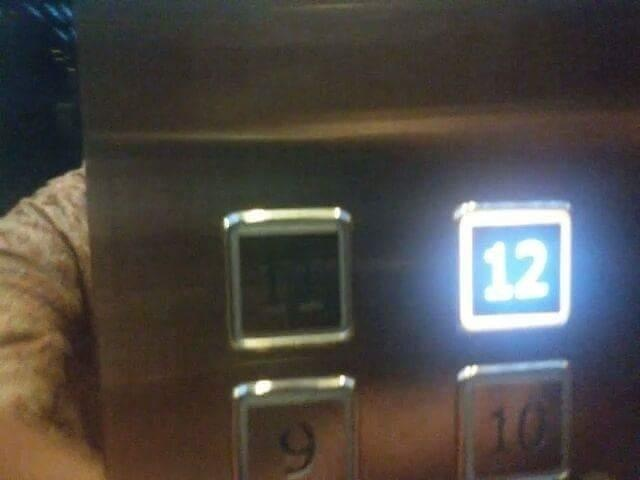10: (451, 360, 570, 480)
12: (452, 200, 575, 335)
9: (227, 374, 364, 480)
blur: (223, 205, 357, 352)
